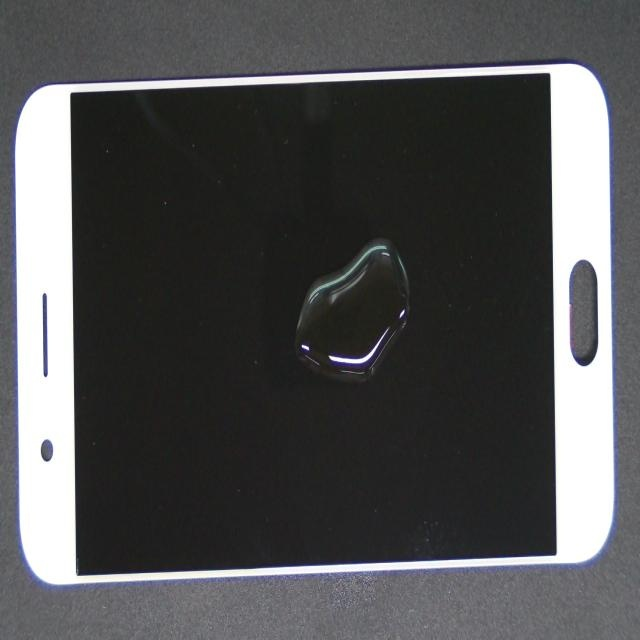oil: (207, 179, 613, 445)
